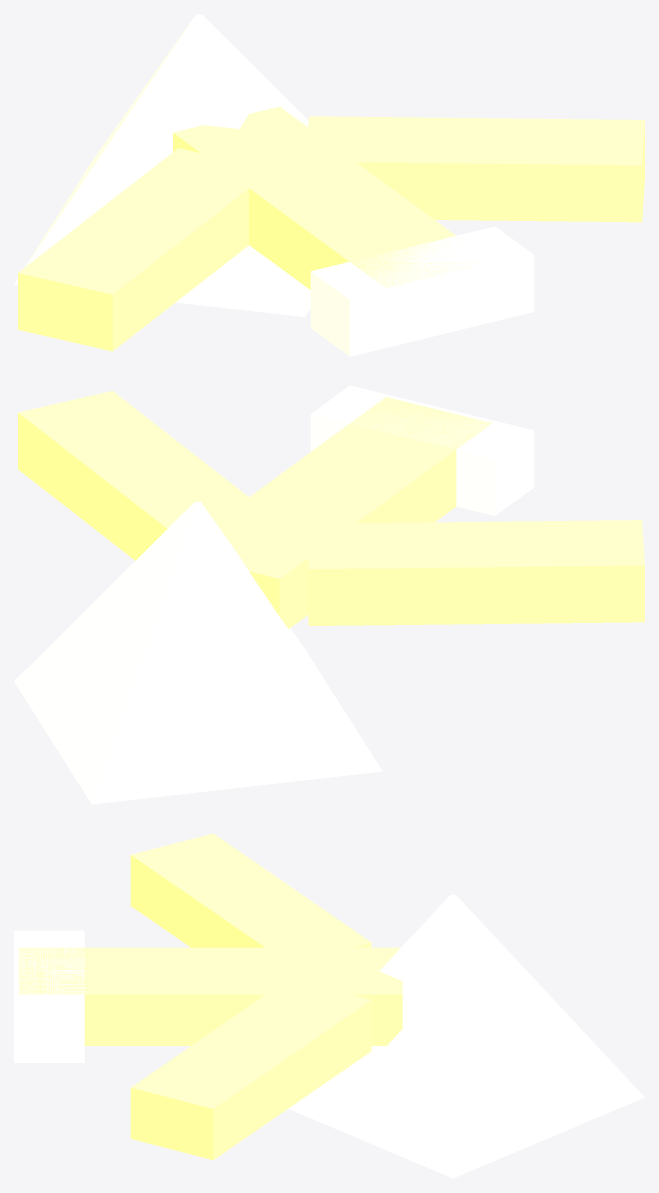
File: interact_buff_speed.glb
3 renders of one model, top to bottom at view 1: azimuth 30°, elevation 25°; view 2: azimuth 150°, elevation 25°; view 3: azimuth 270°, elevation 25°, orthographic. The views are drawn at different scales.
Visible parts, largest first — view 1: interact_buff_speed; view 2: interact_buff_speed; view 3: interact_buff_speed.
Part boxes in pixels (left/top/right/bottom): interact_buff_speed: left=14, top=14, right=644, bottom=356; interact_buff_speed: left=14, top=385, right=644, bottom=804; interact_buff_speed: left=14, top=833, right=644, bottom=1178.
Bounding box in the file's own units: 3.23 × 1.1 × 3.12.
